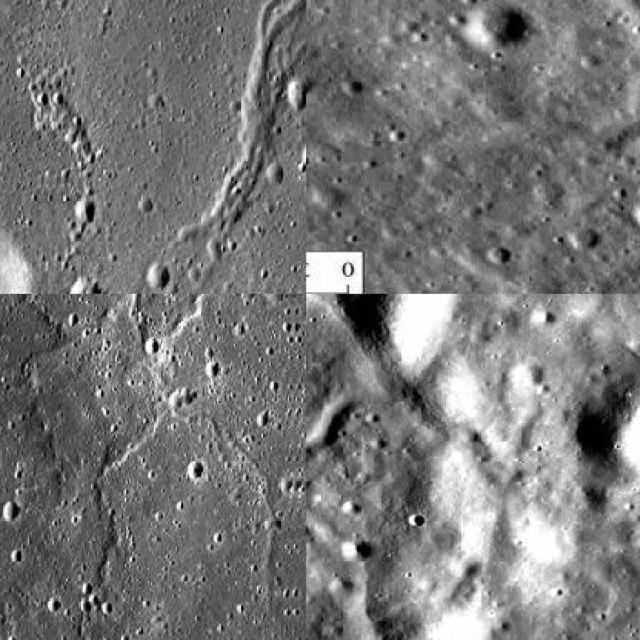rille: (92, 294, 305, 597), (364, 0, 638, 152), (177, 0, 305, 280), (306, 383, 422, 639)
